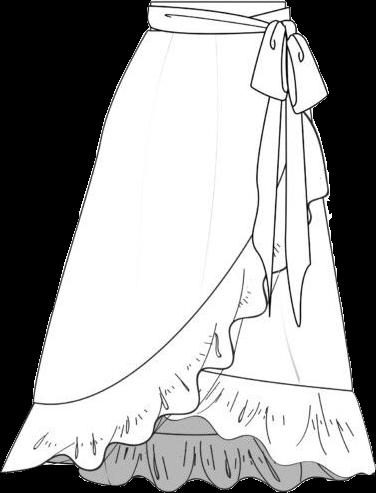Hemline: (0, 188, 328, 472), (169, 415, 367, 479)
Waistline: (31, 111, 313, 403), (215, 372, 353, 393), (146, 19, 293, 34), (147, 0, 284, 5)
